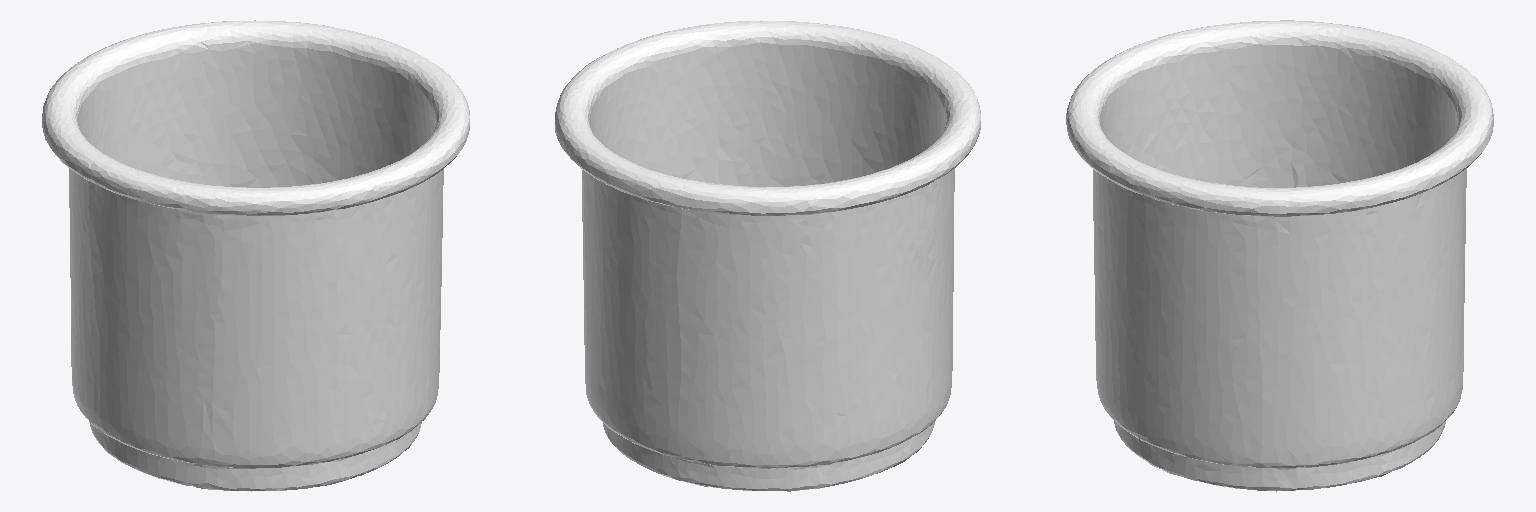
The robot description file, URDF, robot "033_spatula":
<robot name="033_spatula">
	<link name="_name">
		<visual>
			<origin xyz="0.46581043820340895 0.7860574843636465 -0.13189187861051138" rpy="0 0 0" />
			<geometry>
				<mesh filename="033_spatula/google_16k/textured.obj" scale="10 10 10" />
			</geometry>
			<material name="texture">
				<color rgba="1.0 1.0 1.0 1.0" />
			</material>
		</visual>
		<collision>
			<geometry>
				<mesh filename="033_spatula/google_16k/textured_vhacd.obj" scale="10 10 10" />
			</geometry>
		<origin xyz="0.46581043820340895 0.7860574843636465 -0.13189187861051138" rpy="0 0 0" /></collision>
		<inertial>
			<mass value="1.0" />
			<inertia ixx="1.0" ixy="0.0" ixz="0.0" iyy="1.0" iyz="0.0" izz="1.0" />
		</inertial>
	</link>
</robot>

--- Facts derived from the render (not from the file) ---
Views: 3 orthographic renders of the robot side by side, from view 1: azimuth 30°, elevation 25°; view 2: azimuth 150°, elevation 25°; view 3: azimuth 270°, elevation 25°.
Model 033_spatula with 1 links and 0 joints (none), rooted at _name, posed all joints at 0.
Links seen in each view (by area): view 1: _name; view 2: _name; view 3: _name.
Boxes of the visible links, x1,y1,x2,y2 form: _name: (42, 20, 469, 491); _name: (555, 20, 980, 491); _name: (1066, 20, 1493, 491).
Bounding box of the posed robot: 0.915 × 0.9162 × 0.7506 m (x, y, z).
1 mesh visuals loaded from 1 distinct referenced files (1 OBJ).